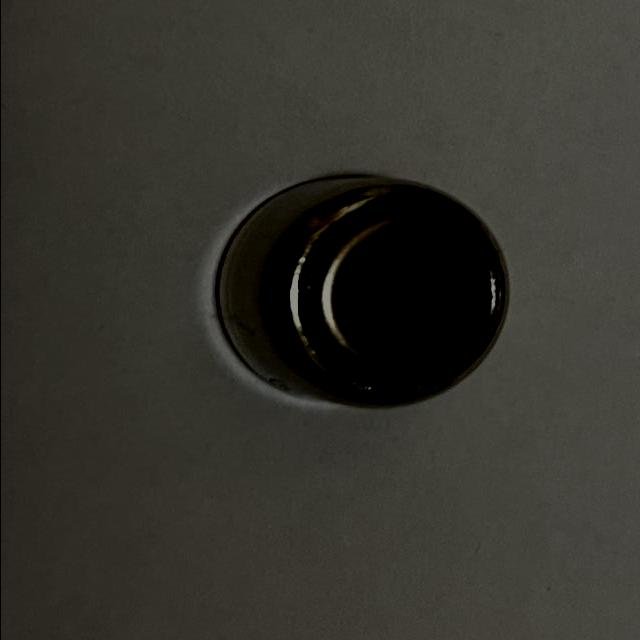COIN: (213, 172, 510, 409)
